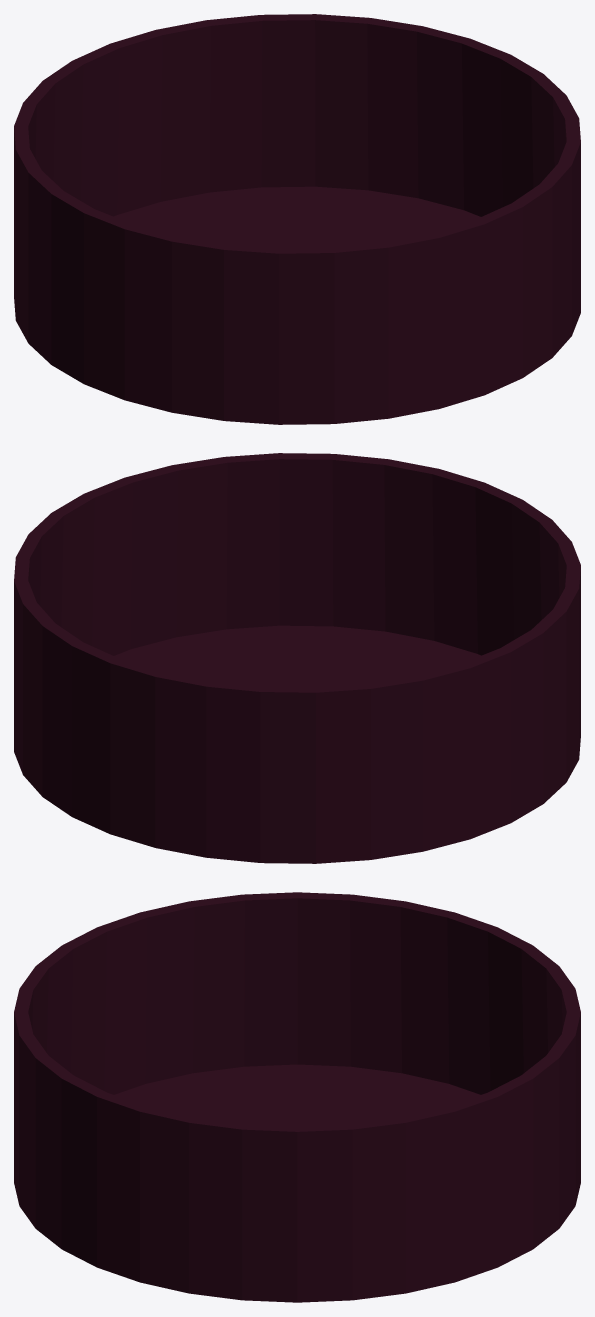
File: ballCatchment.fbx
The picture shows the model from 3 angles, top to bottom: view 1: azimuth 30°, elevation 25°; view 2: azimuth 150°, elevation 25°; view 3: azimuth 270°, elevation 25°; orthographic projection.
Parts seen in each view (by area): view 1: Cylinder; view 2: Cylinder; view 3: Cylinder.
Boxes of the visible parts, bbox=[...] form: Cylinder: bbox=[14, 14, 580, 424]; Cylinder: bbox=[14, 453, 580, 863]; Cylinder: bbox=[14, 892, 580, 1302].
Bounding box in the file's own units: 409 × 136 × 409.
